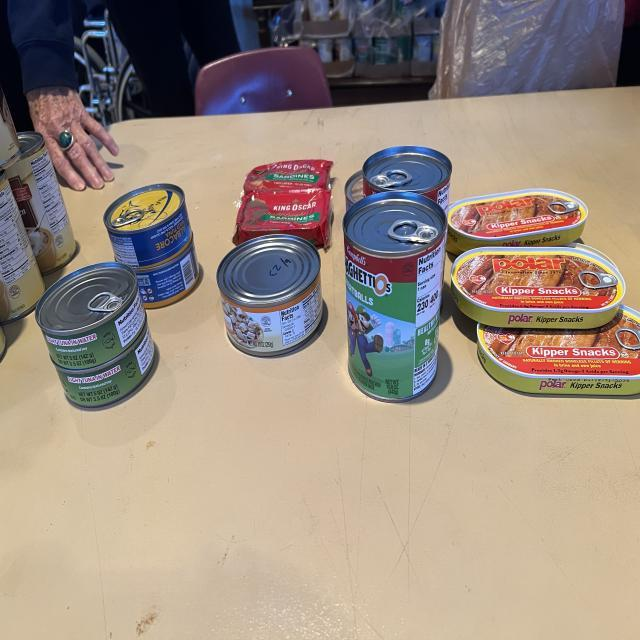Canned Food: (344, 193, 445, 402), (478, 305, 640, 397), (451, 247, 625, 328), (216, 235, 322, 355), (35, 262, 145, 370), (104, 183, 199, 308), (6, 132, 76, 275), (449, 188, 588, 253), (52, 320, 154, 407), (104, 183, 191, 272), (362, 147, 452, 215), (88, 335, 90, 340)
